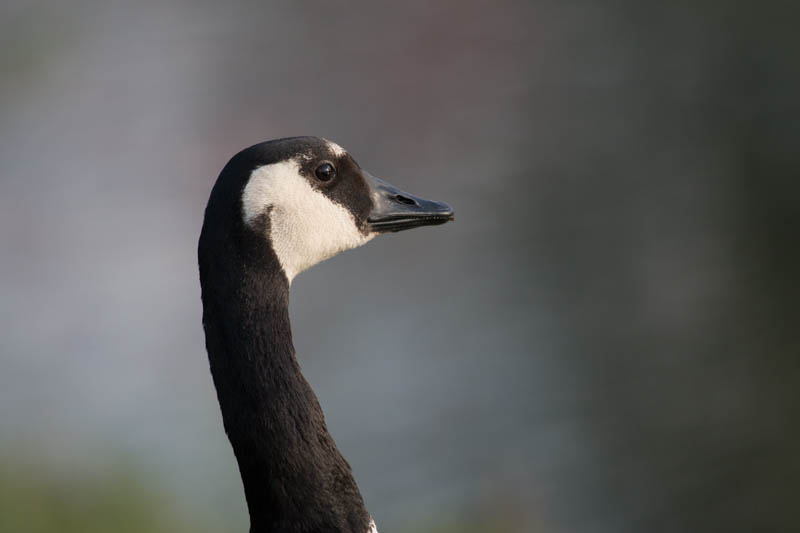goose-head: (197, 135, 454, 288)
